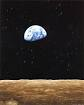moon: (23, 23, 48, 42)
